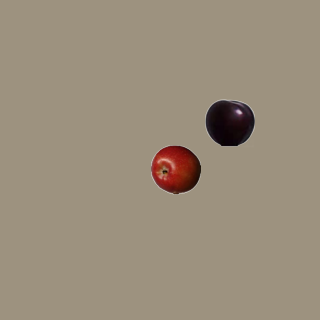Apple Braeburn: (150, 144, 200, 194)
Cherry Wax Black: (204, 97, 254, 147)
